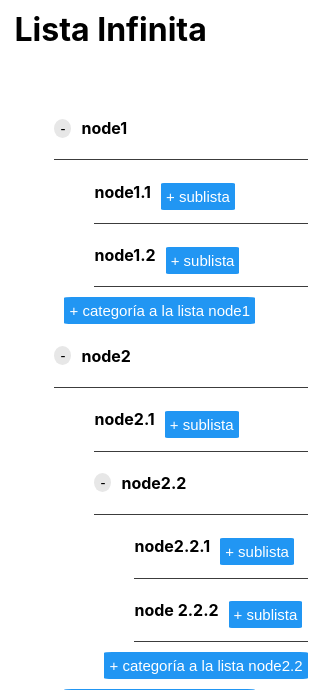
Test case: Sygris assesment › expand
The image size is (325, 690).
Step 1. Click the button with id "btnToogle-1" → point(64, 129), box [55, 119, 72, 138]
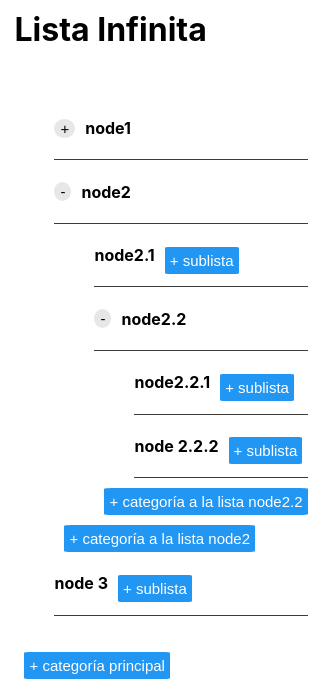
Expected: the list item "node1.1 + sublista" is gone
Expected: the list item "node1.2 + sublista" is gone
Step 2. Click the button with id "btnToogle-1" → point(66, 129), box [55, 119, 76, 138]
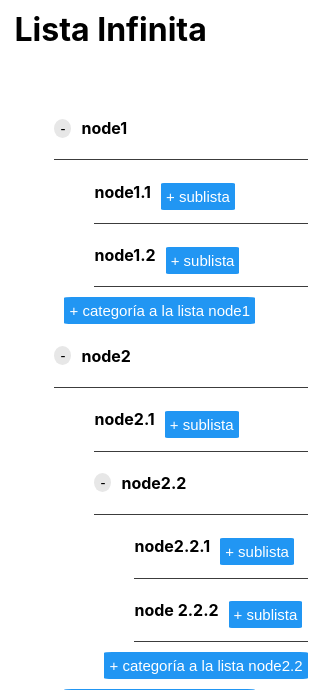
Expected: the list item "node1.1 + sublista" is shown, [94, 160, 308, 224]
Expected: the list item "node1.2 + sublista" is shown, [94, 224, 308, 287]
